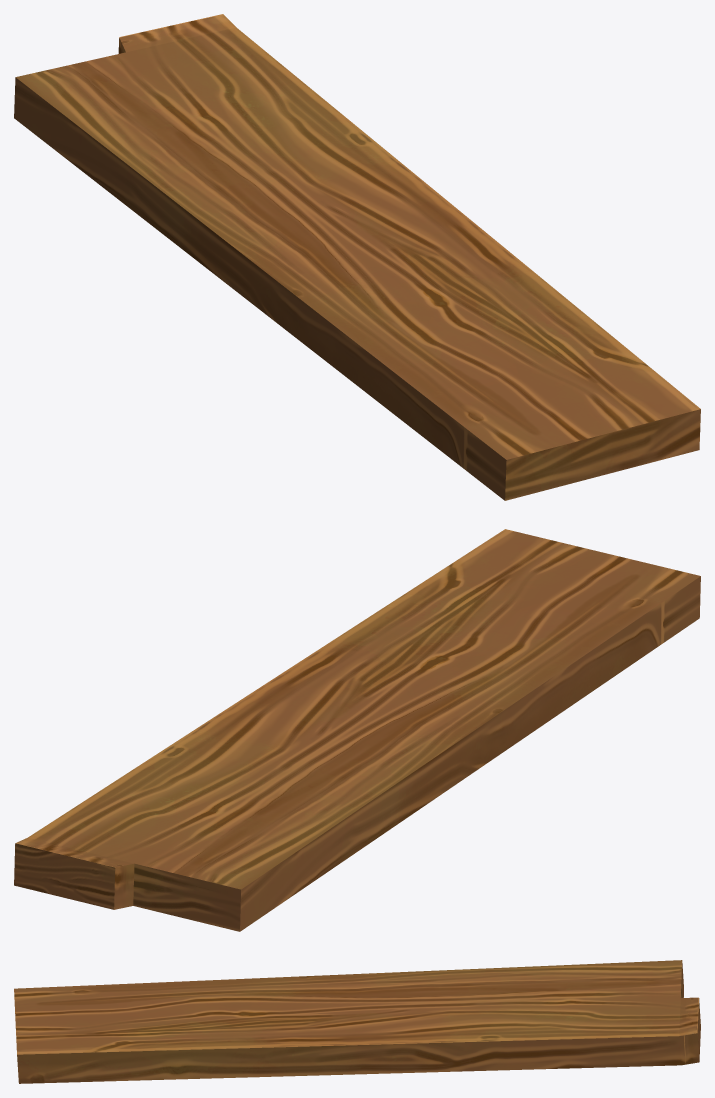
The picture shows the model from 3 angles, top to bottom: view 1: azimuth 30°, elevation 25°; view 2: azimuth 150°, elevation 25°; view 3: azimuth 270°, elevation 25°; orthographic projection. The views are drawn at different scales.
Visible parts, largest first — view 1: Cube.870; view 2: Cube.870; view 3: Cube.870.
Part boxes in pixels (box(x1,y1,x2,y2)): Cube.870: box(14, 14, 700, 500); Cube.870: box(14, 529, 700, 931); Cube.870: box(14, 960, 700, 1083).
Bounding box in the file's own units: 58.38 × 20.36 × 227.
Materials: 1 (1 with a texture image).
